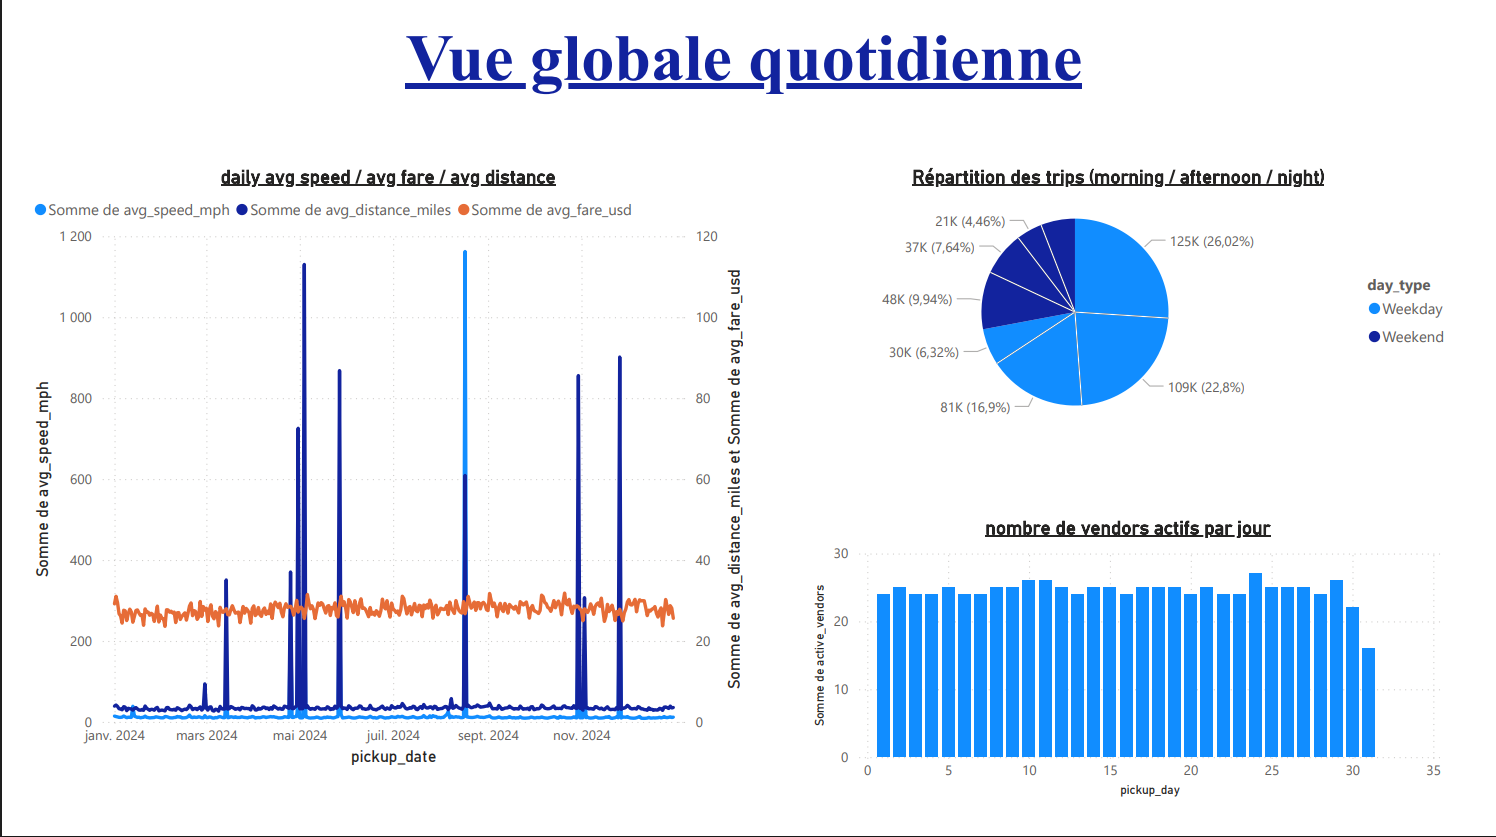

This screenshot's page, from the dashboard's own definition file:
{"tool":"powerbi","page":{"name":"Overview","canvas":[1280,720],"ordinal":0},"visuals":[{"type":"lineChart","title":"daily avg speed / avg fare / avg distance","fields":{"Category":["agg_daily_metrics.pickup_date"],"Y":["Sum(agg_daily_metrics.avg_speed_mph)"],"Y2":["Sum(agg_daily_metrics.avg_distance_miles)","Sum(agg_daily_metrics.avg_fare_usd)"]},"box":[0,146.7,639.5,538],"z":0},{"type":"clusteredColumnChart","title":"nombre de vendors actifs par jour","fields":{"Category":["agg_daily_metrics.pickup_day"],"Y":["Sum(agg_daily_metrics.active_vendors)"]},"box":[693.3,458.8,567.4,254.3],"z":1000},{"type":"pieChart","title":"Répartition des trips (morning / afternoon / night)","fields":{"Y":["Sum(agg_daily_metrics.afternoon_trips)","Sum(agg_daily_metrics.evening_trips)","Sum(agg_daily_metrics.morning_trips)","Sum(agg_daily_metrics.night_trips)"],"Category":["agg_daily_metrics.day_type"]},"box":[665.2,147,606.5,242.1],"z":2000},{"type":"textbox","box":[0,13.5,1271.7,77],"z":3000}]}

Visuals, with their boxes in screenshot pixels (x1, y1, x2, y2), scaled from the page's 1280x720 canvas onto the 1496x837 screenshot:
"daily avg speed / avg fare / avg distance" lineChart: rect(0, 171, 747, 796)
"nombre de vendors actifs par jour" clusteredColumnChart: rect(810, 533, 1473, 829)
"Répartition des trips (morning / afternoon / night)" pieChart: rect(777, 171, 1486, 452)
textbox: rect(0, 16, 1486, 105)
